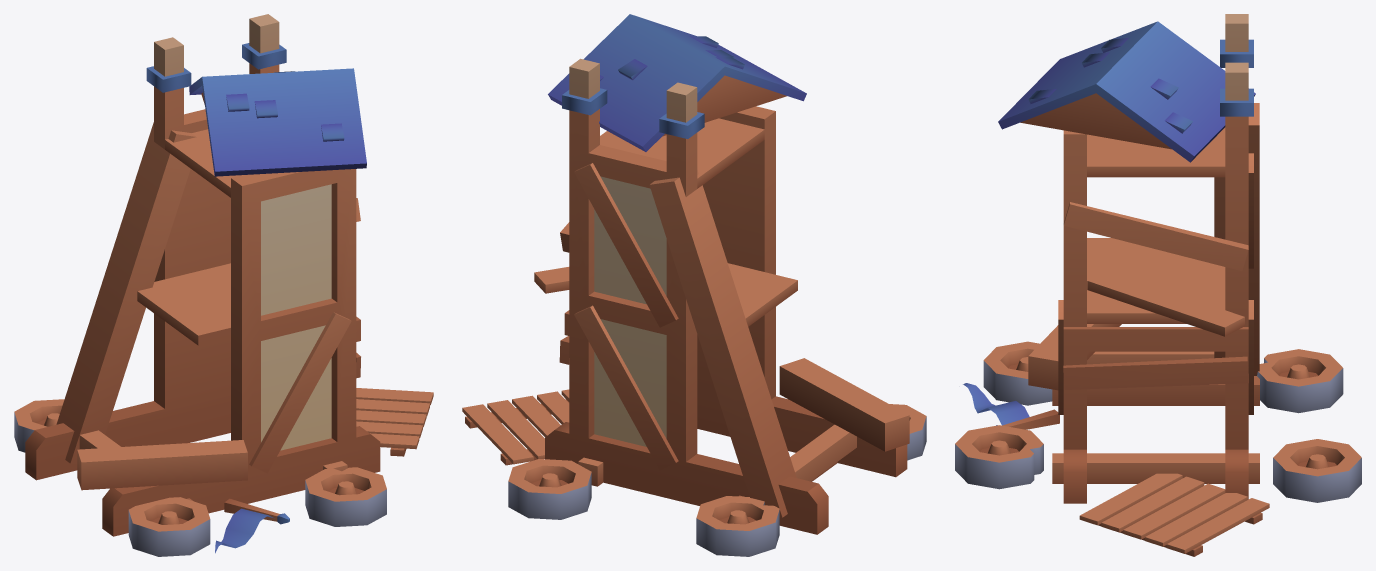
File: siege-tower-demolished.glb
The picture shows the model from 3 angles, left to right: view 1: azimuth 30°, elevation 25°; view 2: azimuth 150°, elevation 25°; view 3: azimuth 270°, elevation 25°; orthographic projection. The views are drawn at different scales.
Parts seen in each view (by area): view 1: siege-tower-demolished; view 2: siege-tower-demolished; view 3: siege-tower-demolished.
Part boxes in pixels (<box>): siege-tower-demolished: <box>14,14,433,556</box>; siege-tower-demolished: <box>462,14,926,556</box>; siege-tower-demolished: <box>955,14,1361,556</box>.
Bounding box in the file's own units: 2.17 × 2.1 × 1.85.
